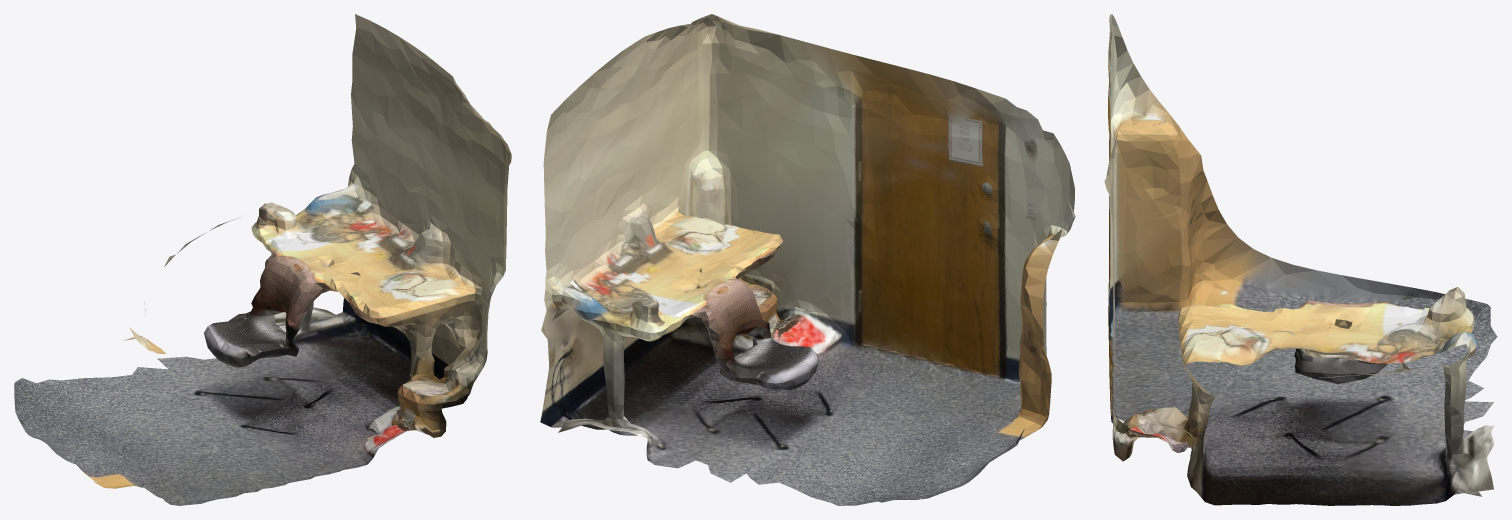
Rendered from desk.glb.
The picture shows the model from 3 angles, left to right: view 1: azimuth 30°, elevation 25°; view 2: azimuth 150°, elevation 25°; view 3: azimuth 270°, elevation 25°; orthographic projection. The views are drawn at different scales.
Visible parts, largest first — view 1: Mesh_0; view 2: Mesh_0; view 3: Mesh_0.
Part boxes in pixels (<box>): Mesh_0: <box>14,14,511,505</box>; Mesh_0: <box>540,14,1075,505</box>; Mesh_0: <box>1104,14,1497,505</box>.
Size of the model in its own units: 2.6 by 2.08 by 1.99.
1 material, 1 textured.
